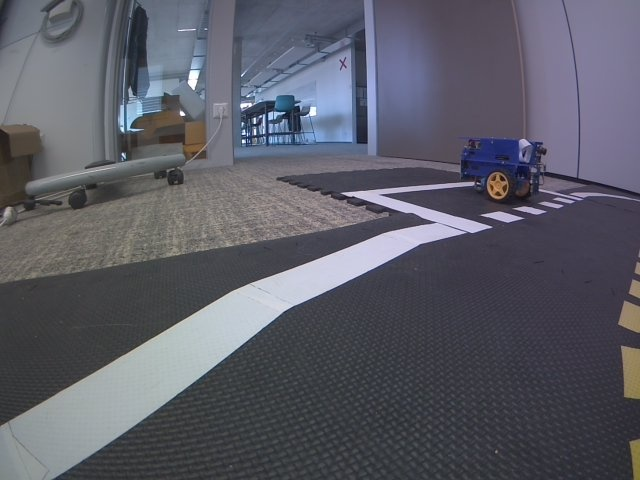Bot: (459, 136, 547, 203)
occupiedSlot: (340, 177, 584, 235)
